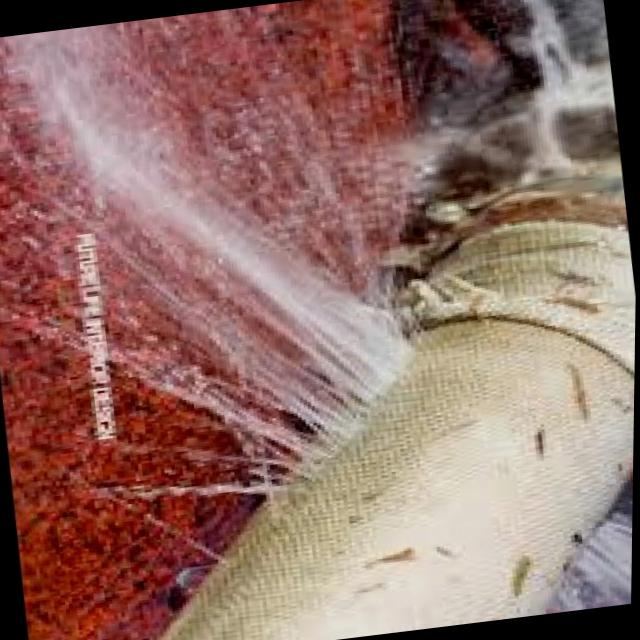leak: (13, 25, 408, 458), (224, 77, 364, 247), (141, 10, 255, 80)
